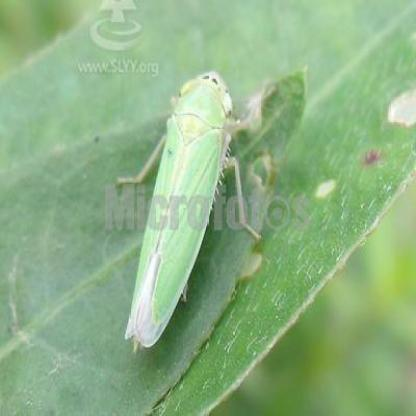Green-Leafhopper: (113, 69, 262, 357)
